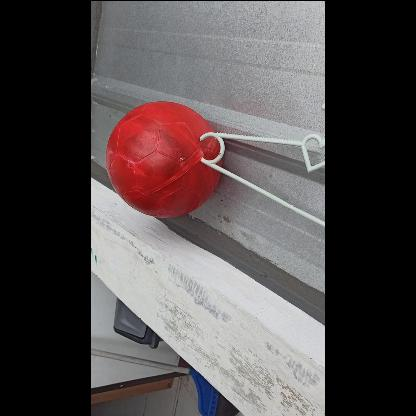red_ball: (106, 99, 224, 217)
